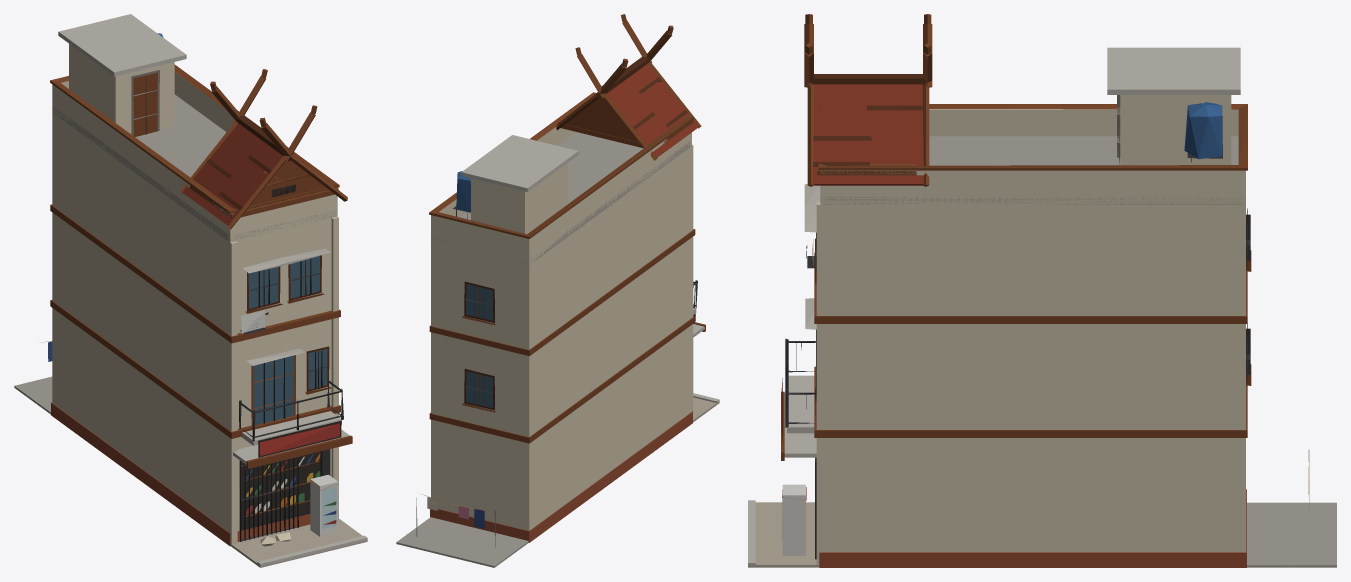
Rendered from bay2_mid2.glb.
3 views of the same model, side by side, from view 1: azimuth 30°, elevation 25°; view 2: azimuth 150°, elevation 25°; view 3: azimuth 270°, elevation 25° (orthographic). The views are drawn at different scales.
Visible parts, largest first — view 1: body, windows; view 2: body, windows; view 3: body.
Part boxes in pixels (x1,y1,x2,y2): body: [14, 14, 367, 567]; windows: [239, 184, 327, 530]; body: [396, 14, 719, 567]; windows: [466, 283, 493, 407]; body: [748, 14, 1336, 567].
Bounding box in the file's own units: 4.49 × 15.12 × 15.9.
